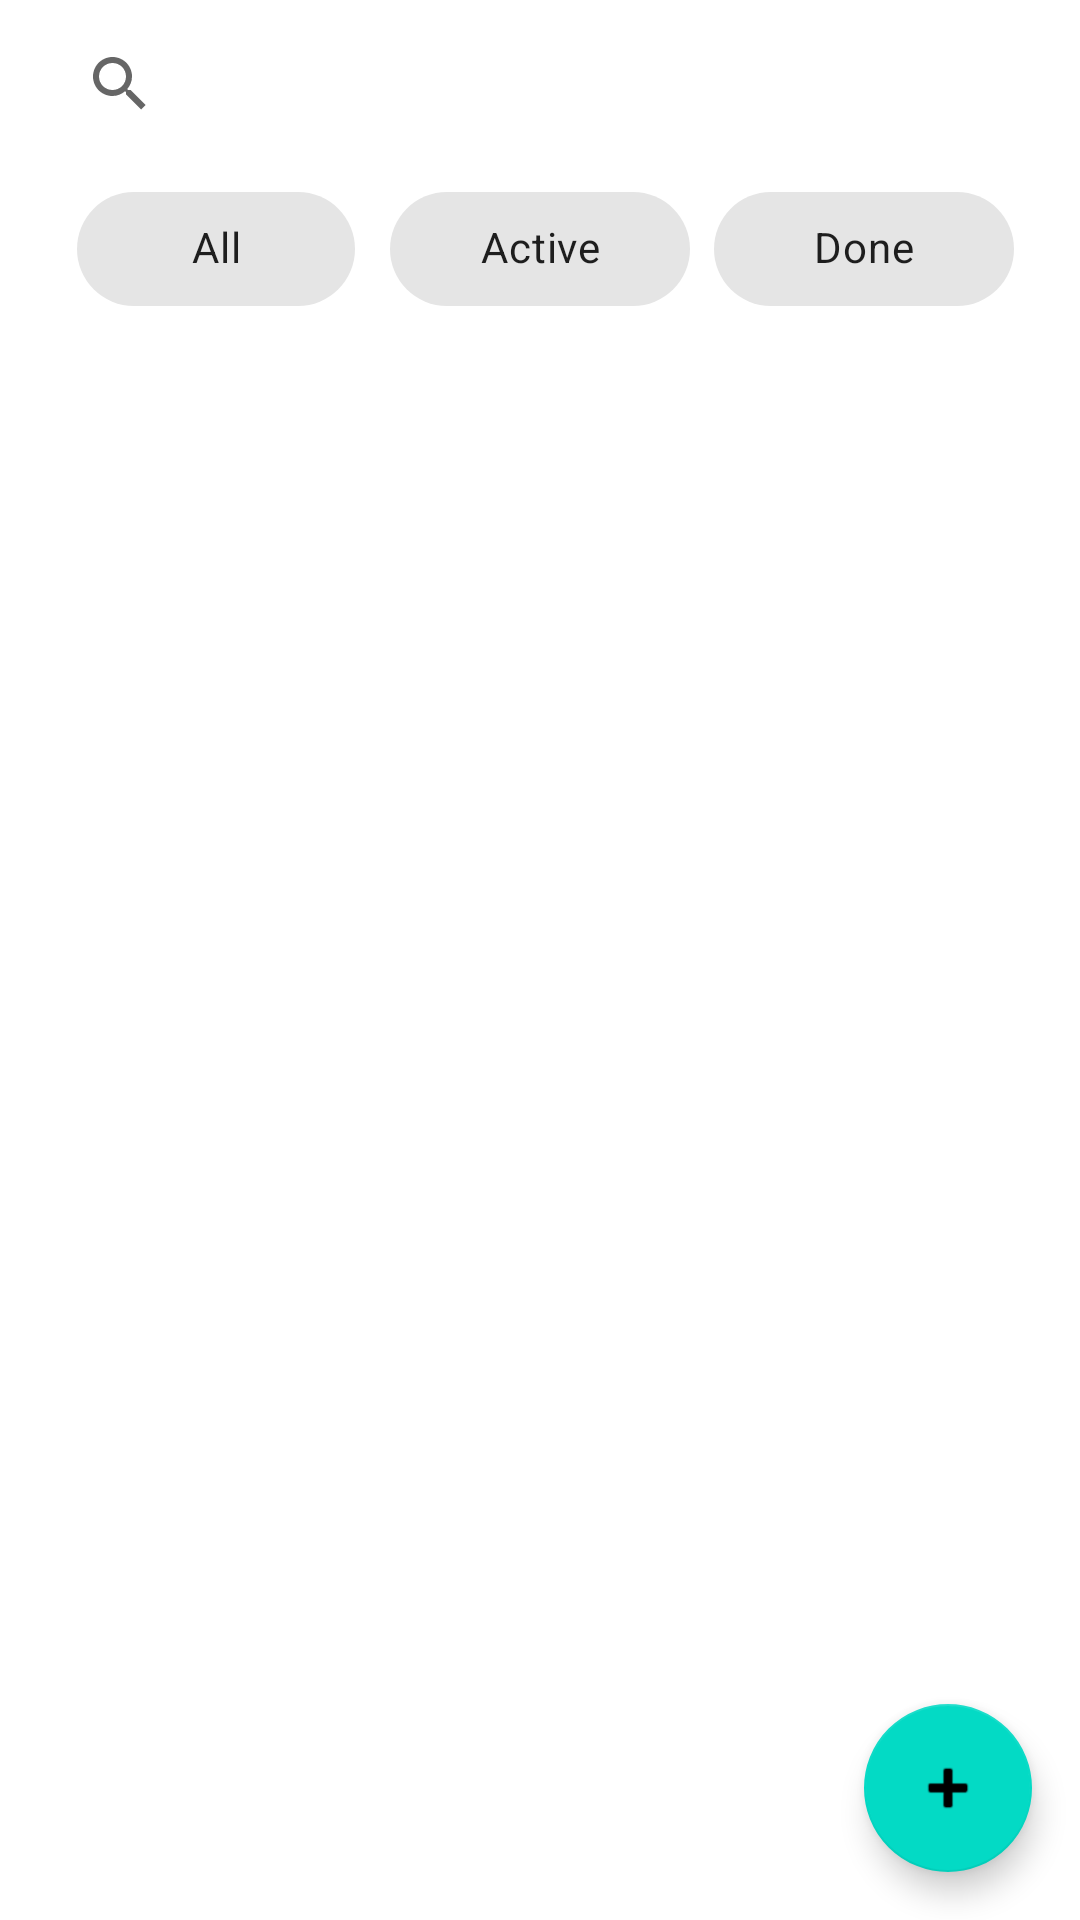

Screen size 1080 × 1920. Icon name, then its box in pixels as [x1,y1,x2,y2]:
Add Task: [864,1704,1032,1872]
